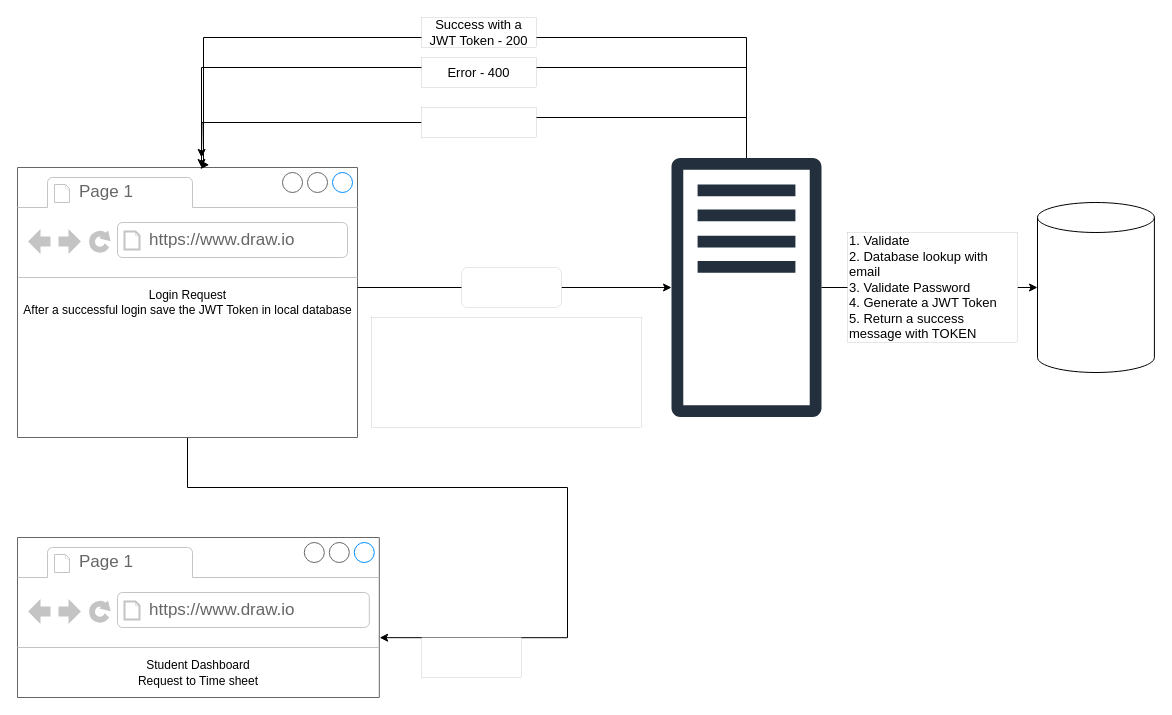
Some shapes in this 1172 by 715 pixel diagram are drawn without their labels. The shapes that lost their labels are listed below. From the top down, each one's centre as x and y in pixels, then its label:
(x=478, y=122): Error - 500
(x=511, y=287): /auth/login
(x=506, y=372): { "email": "xyz@example.com", "password": "1234" }
(x=471, y=657): Redirect to Dashboard
